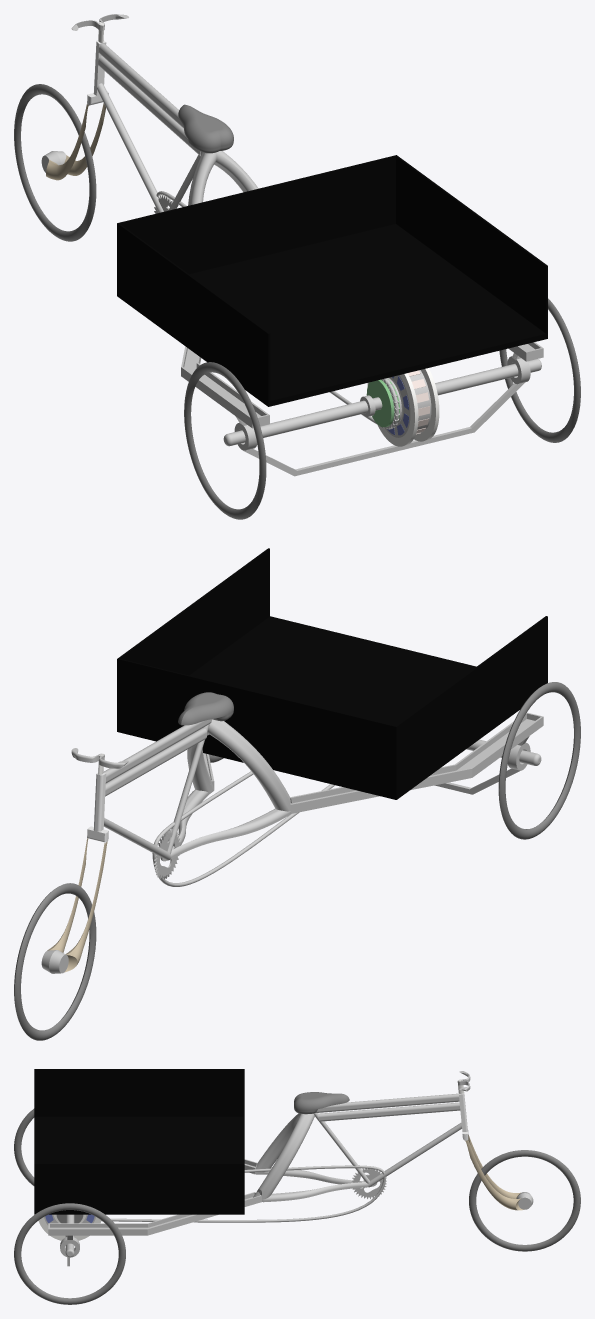
The model's file is tirare.glb.
3 views of the same model, one above another, from view 1: azimuth 30°, elevation 25°; view 2: azimuth 150°, elevation 25°; view 3: azimuth 270°, elevation 25° (orthographic). The views are drawn at different scales.
Parts seen in each view (by area): view 1: Body47, Body37, Body39, Body1, Body46, Body40, Body24, Body21, Body80, Body20, Body22, Body74 (+4 smaller); view 2: Body47, Body39, Body1, Body80, Body21, Body74, Body31, Body34, Body24, Body48, Body20, Body76 (+4 smaller); view 3: Body47, Body40, Body1, Body80, Body26, Body21, Body48, Body31, Body20, Body24, Body22, Body39 (+5 smaller).
Part boxes in pixels (<box>): Body47: <box>117,155,547,406</box>; Body37: <box>223,359,541,446</box>; Body39: <box>184,362,266,519</box>; Body1: <box>14,84,96,241</box>; Body46: <box>243,382,524,476</box>; Body40: <box>499,298,580,442</box>; Body24: <box>178,104,233,153</box>; Body21: <box>98,56,202,210</box>; Body80: <box>188,151,258,205</box>; Body20: <box>99,43,183,128</box>; Body22: <box>97,83,163,212</box>; Body74: <box>181,346,269,428</box>; Body47: <box>117,548,547,799</box>; Body39: <box>498,682,580,839</box>; Body1: <box>14,883,96,1040</box>; Body80: <box>187,719,290,808</box>; Body21: <box>105,724,209,854</box>; Body74: <box>417,712,543,786</box>; Body31: <box>170,789,290,859</box>; Body34: <box>291,719,543,813</box>; Body24: <box>178,692,233,725</box>; Body48: <box>152,771,334,886</box>; Body20: <box>103,719,211,782</box>; Body76: <box>275,787,371,811</box>; Body47: <box>34,1069,244,1214</box>; Body40: <box>14,1203,125,1304</box>; Body1: <box>469,1150,580,1251</box>; Body80: <box>256,1113,314,1195</box>; Body26: <box>48,1214,188,1235</box>; Body21: <box>313,1102,460,1183</box>; Body48: <box>101,1165,386,1222</box>; Body31: <box>262,1167,368,1202</box>; Body20: <box>315,1093,459,1112</box>; Body24: <box>294,1092,349,1114</box>; Body22: <box>367,1122,461,1187</box>; Body39: <box>14,1108,34,1185</box>.
Bounding box in the file's own units: 183 × 135 × 405.
